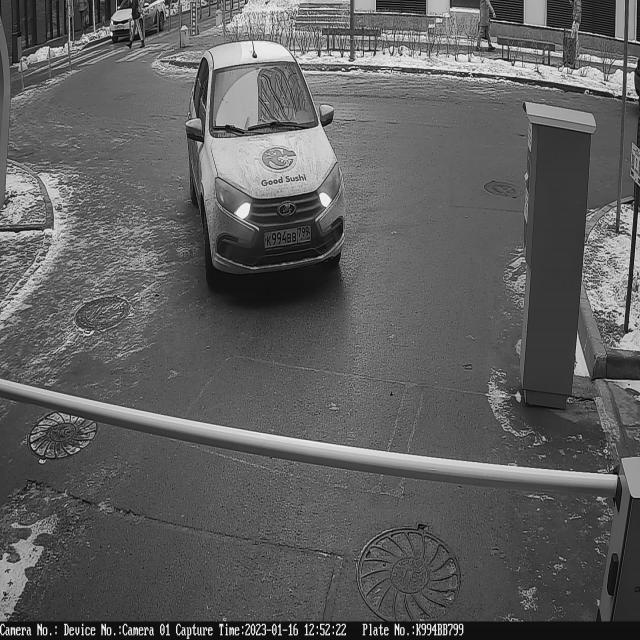car-plate-numbers: (264, 221, 315, 253)
